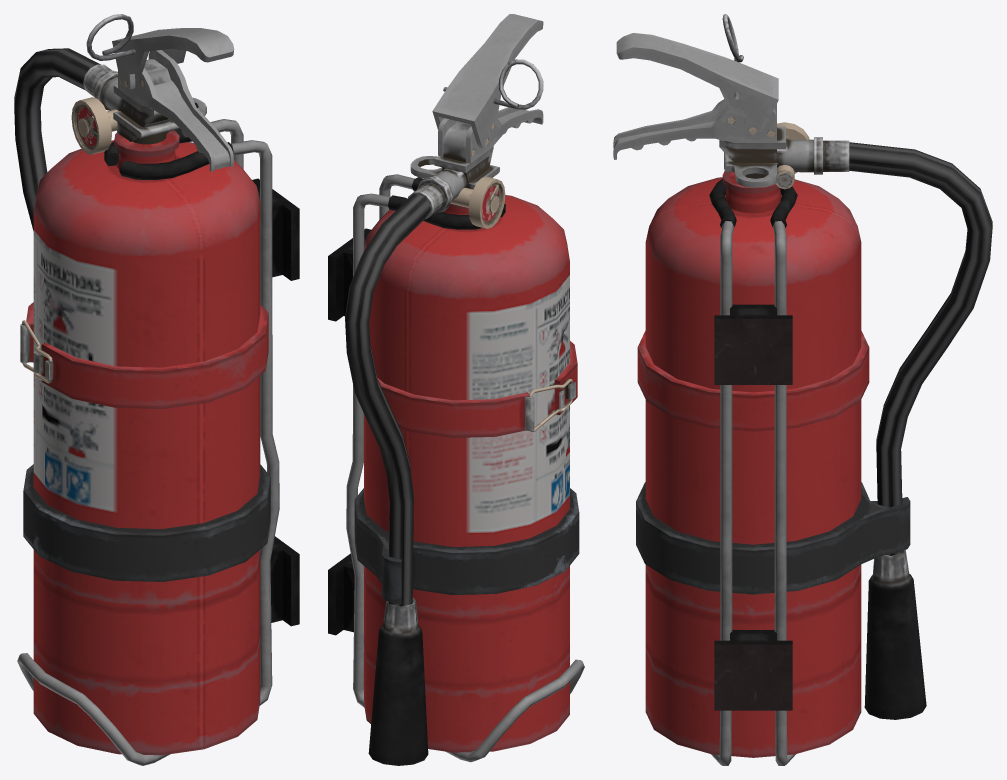
File: HH_Fire_Extinguisher_Wall.fbx
The picture shows the model from 3 angles, left to right: view 1: azimuth 30°, elevation 25°; view 2: azimuth 150°, elevation 25°; view 3: azimuth 270°, elevation 25°; orthographic projection. The views are drawn at different scales.
Visible parts, largest first — view 1: HH_Fire_Extinguisher_Wall_LOD0; view 2: HH_Fire_Extinguisher_Wall_LOD0; view 3: HH_Fire_Extinguisher_Wall_LOD0.
Part boxes in pixels (<box>): HH_Fire_Extinguisher_Wall_LOD0: <box>14,14,299,765</box>; HH_Fire_Extinguisher_Wall_LOD0: <box>328,14,584,765</box>; HH_Fire_Extinguisher_Wall_LOD0: <box>613,14,992,765</box>.
Size of what is drawn, in the model's own units: 22.12 by 63.72 by 31.95.
